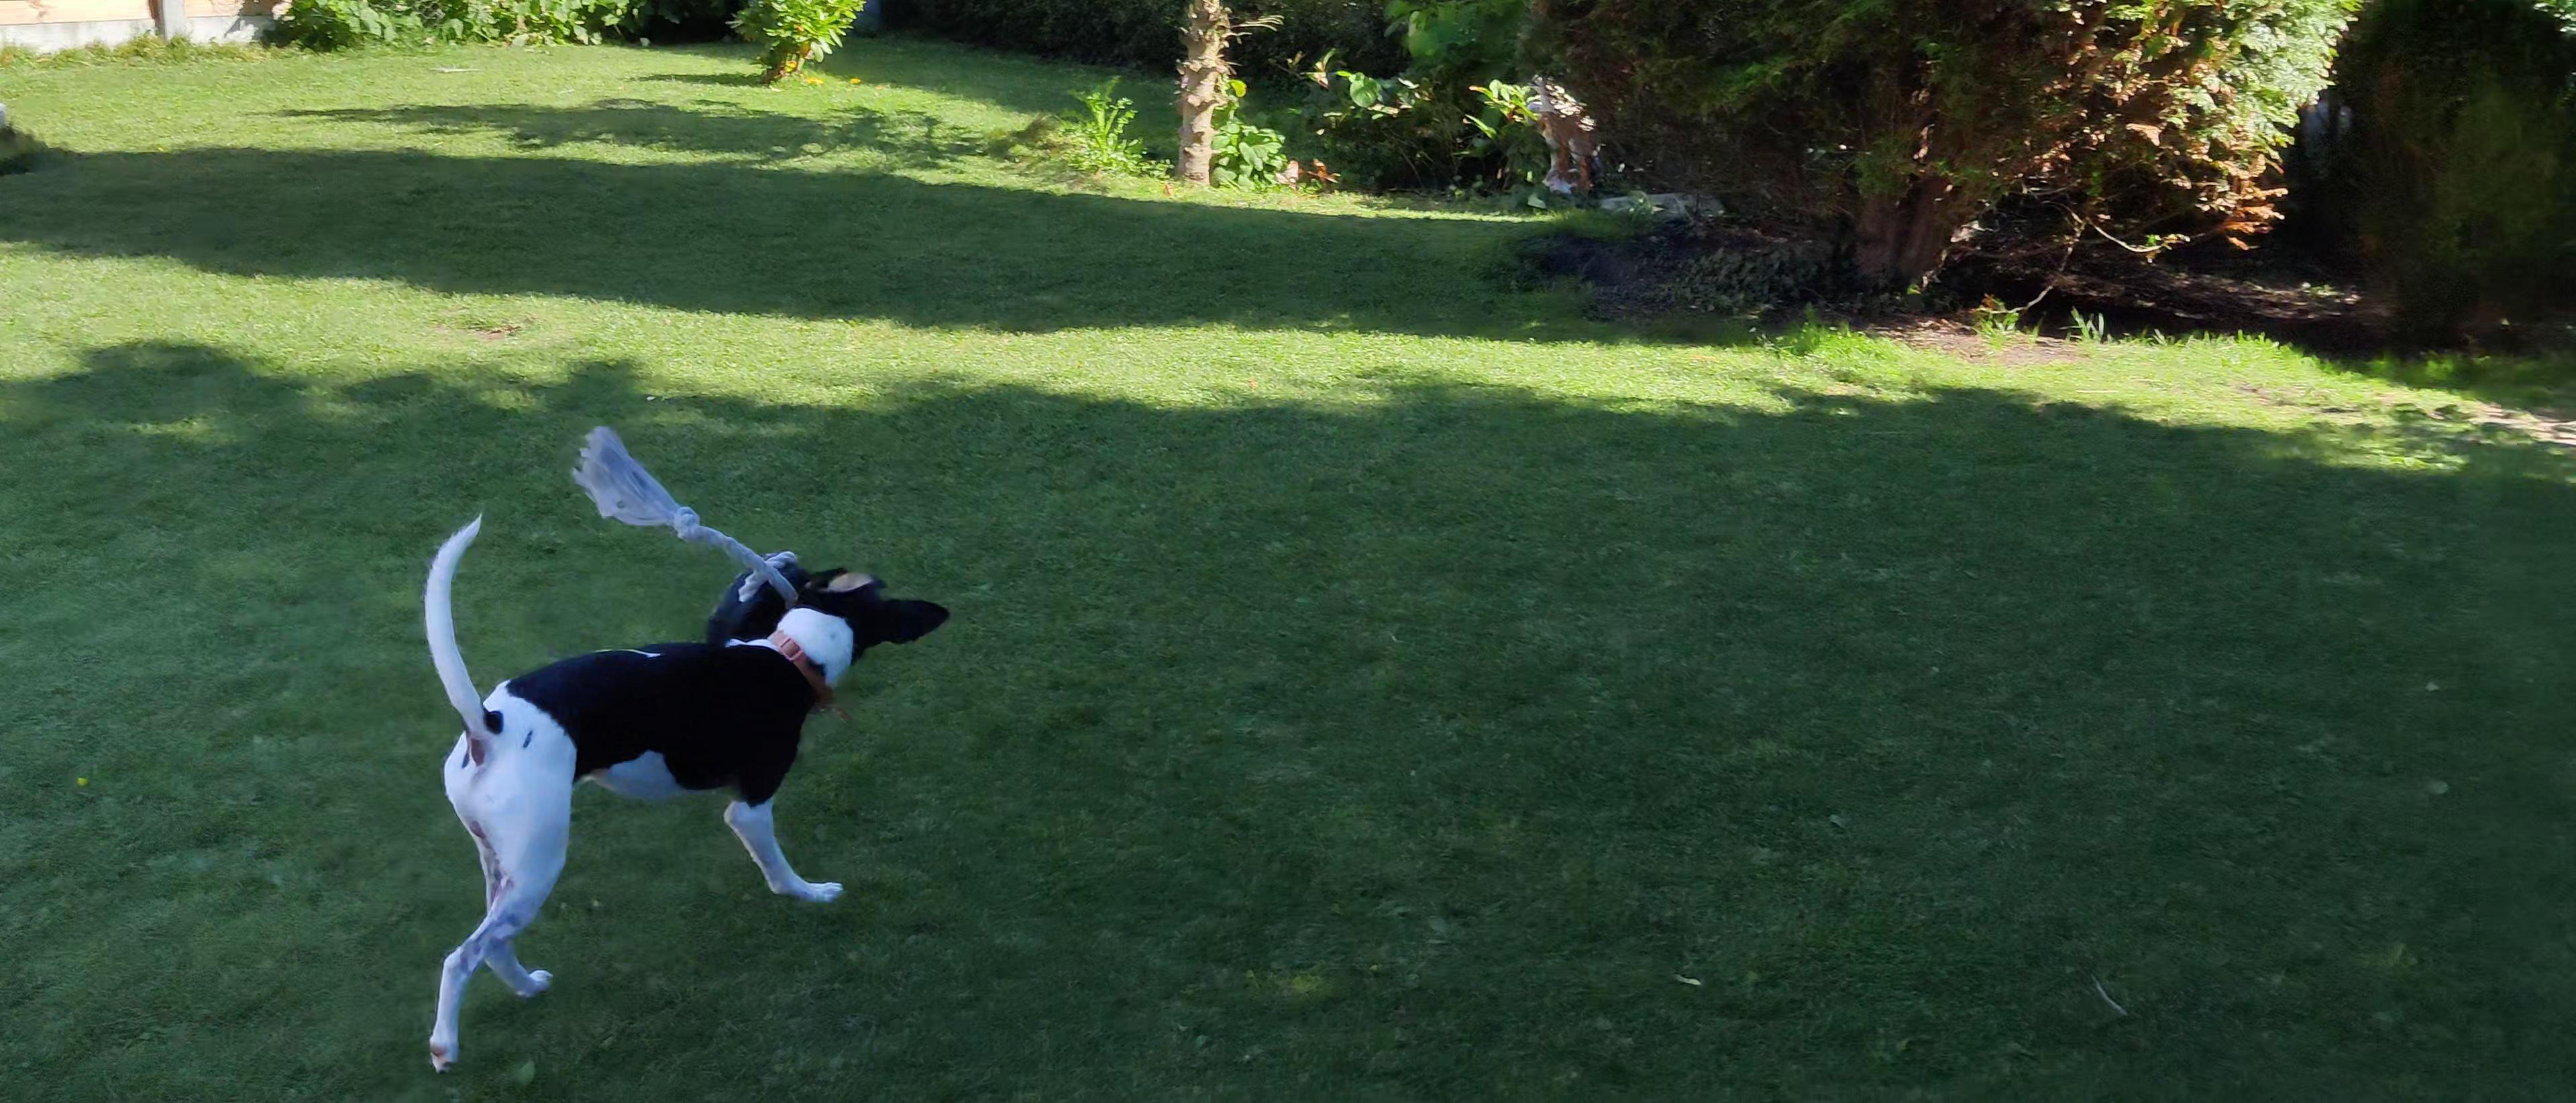Dog: (399, 493, 963, 1070)
